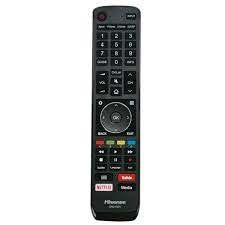remote control: (88, 7, 142, 221)
